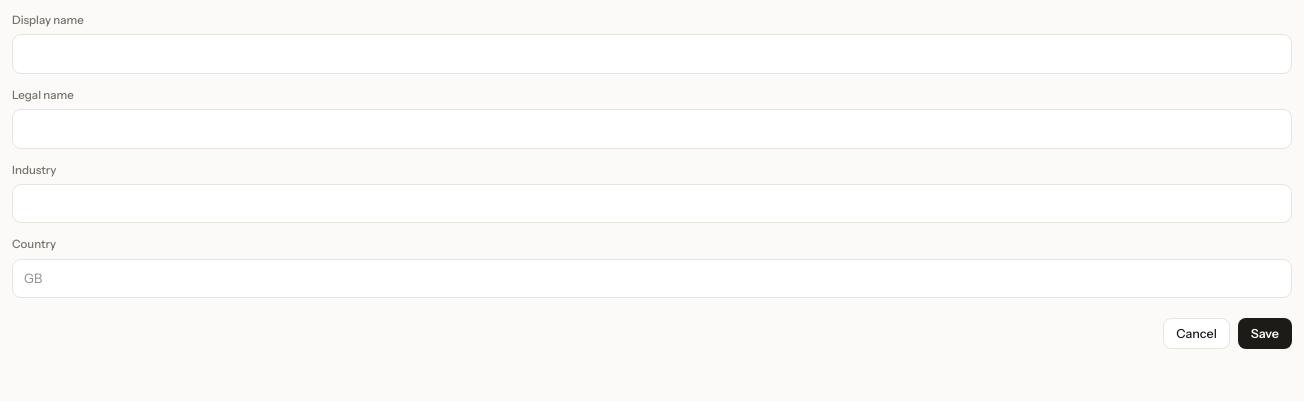
CustomerForm › refuses to submit without the two names the record cannot exist without
The image size is (1304, 401).
Click the button "Save" at (1265, 334), box [1238, 318, 1292, 349]
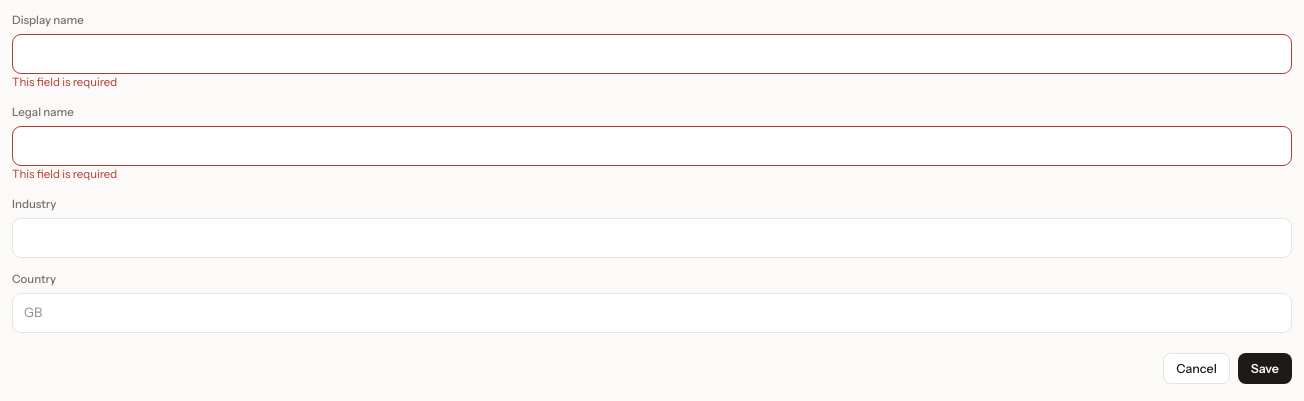
Result: the text "This field is required" is shown 2 times at [12, 75, 117, 89]; [12, 167, 117, 181]
